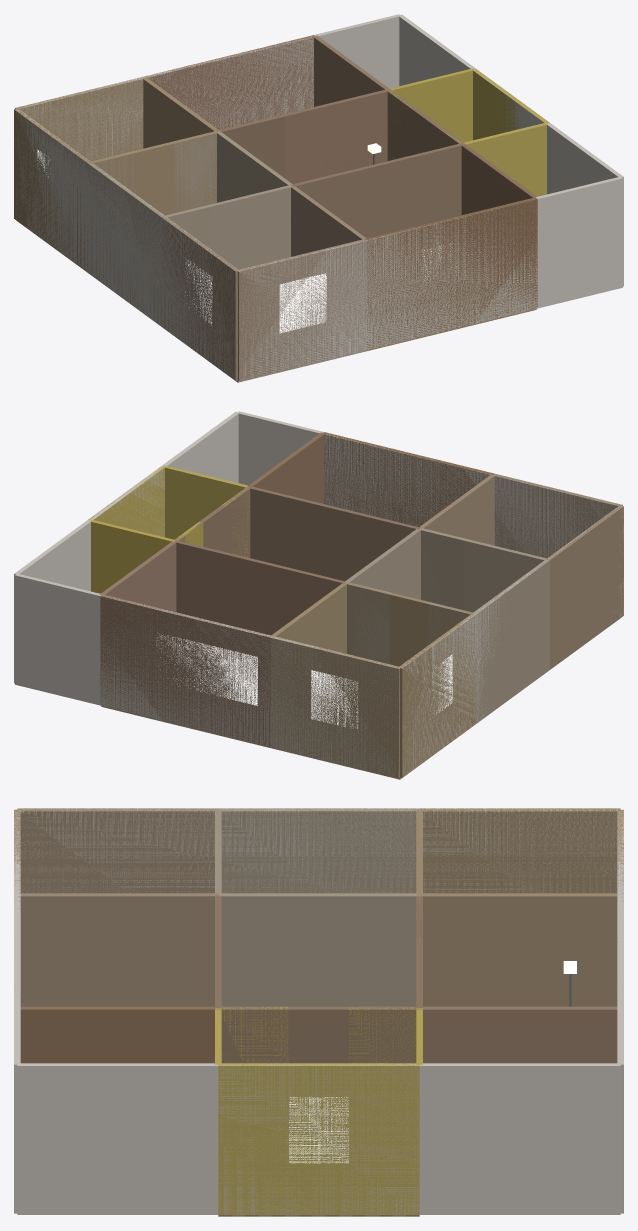
File: house_shell.glb
The picture shows the model from 3 angles, top to bottom: view 1: azimuth 30°, elevation 25°; view 2: azimuth 150°, elevation 25°; view 3: azimuth 270°, elevation 25°; orthographic projection. The views are drawn at different scales.
Parts seen in each view (by area): view 1: house_shell; view 2: house_shell; view 3: house_shell.
Part boxes in pixels (<box>): house_shell: <box>14,14,623,382</box>; house_shell: <box>14,411,623,779</box>; house_shell: <box>14,808,623,1216</box>.
Bounding box in the file's own units: 9.1 × 2.5 × 9.1.
